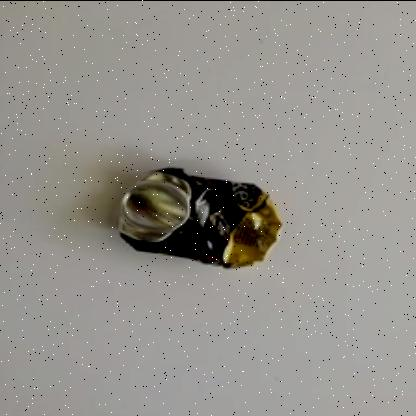Can: (118, 164, 282, 268)
